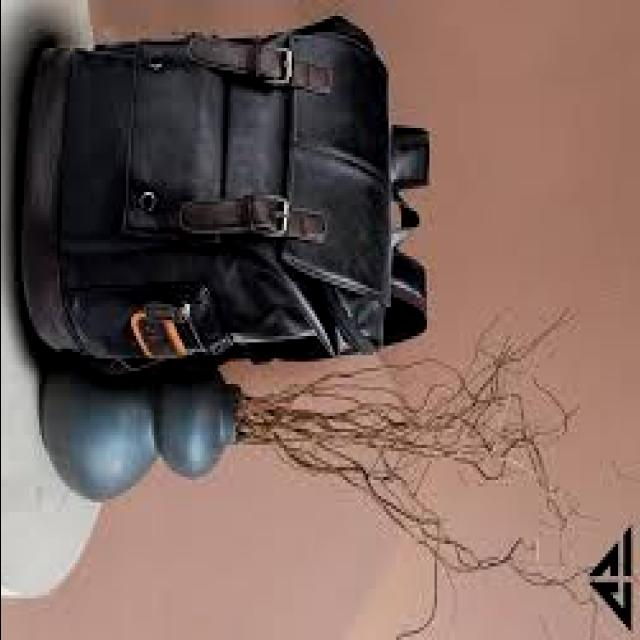backpack: (19, 14, 432, 376)
